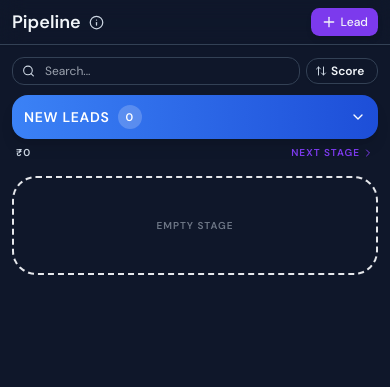
Scenario: CRMPipeline (optimized mobile layout) › disables contact actions when phone and email are missing
The width and height of the screenshot is (390, 387).
Click the button "Next Stage" at (333, 152), box [291,145,374,160]
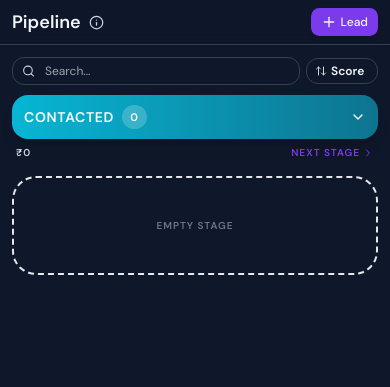
Click the button "Next Stage" at (333, 152), box [291,145,374,160]
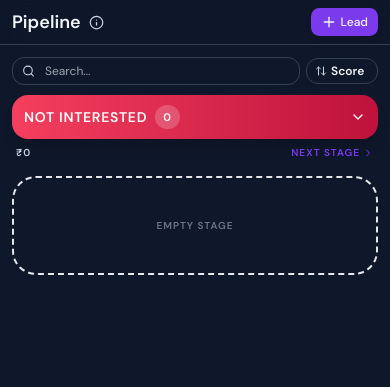
Click the button "Next Stage" at (333, 152), box [291,145,374,160]
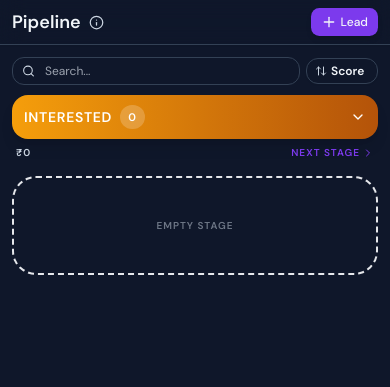
Click the button "Next Stage" at (333, 152), box [291,145,374,160]
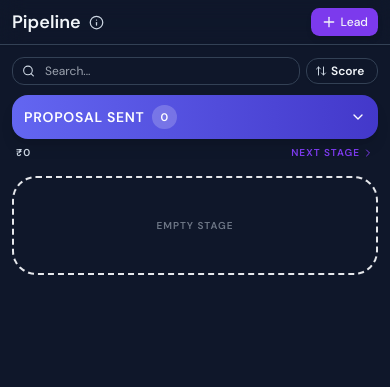
Click the button "Next Stage" at (333, 152), box [291,145,374,160]
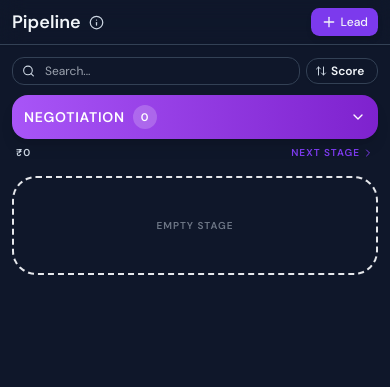
Click the button "Next Stage" at (333, 152), box [291,145,374,160]
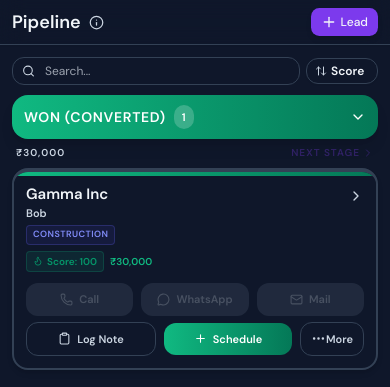
Check: the button "Call" is disabled, box [26,283,133,316]
Check: the button "WhatsApp" is disabled, box [141,283,249,316]
